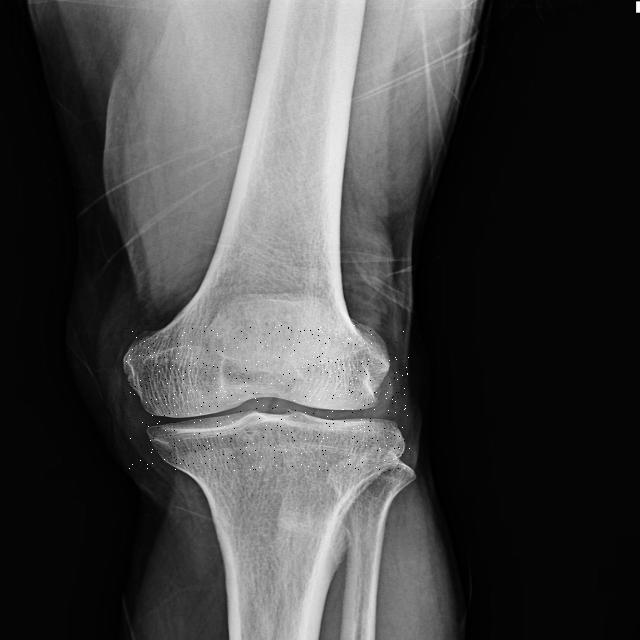osteo: (124, 325, 410, 471)
